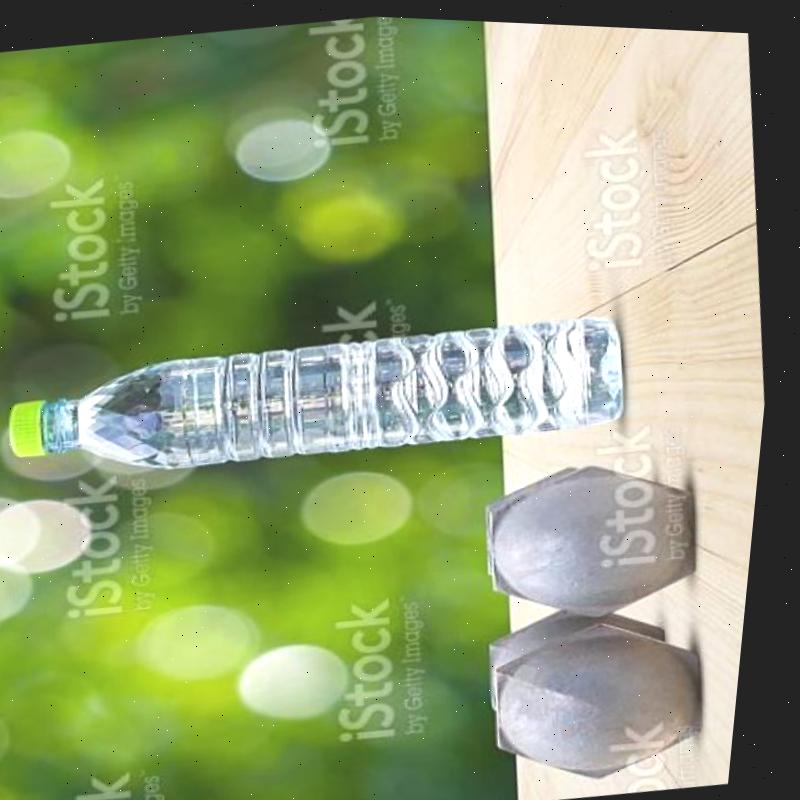botella: (2, 282, 638, 508)
